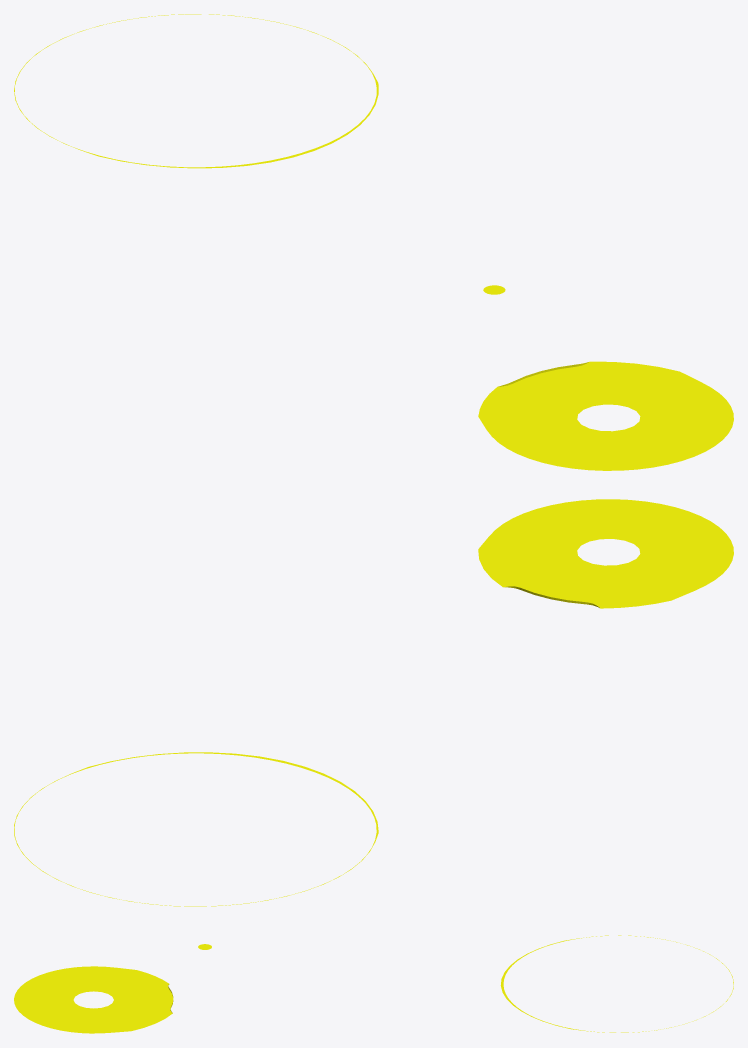
The model's file is Pfen3DE45D4A9opp_21_Pfen3DE45D4A9opp_Mesh_2.obj.
3 renders of one model, top to bottom at view 1: azimuth 30°, elevation 25°; view 2: azimuth 150°, elevation 25°; view 3: azimuth 270°, elevation 25°, orthographic. The views are drawn at different scales.
Parts seen in each view (by area): view 1: Mesh_Diffuse_6; view 2: Mesh_Diffuse_6; view 3: Mesh_Diffuse_6.
Boxes of the visible parts, x1,y1,x2,y2 form: Mesh_Diffuse_6: [14, 14, 733, 470]; Mesh_Diffuse_6: [14, 499, 733, 906]; Mesh_Diffuse_6: [14, 935, 733, 1033].
Size of the model in its own units: 0.5719 by 0.122 by 1.78.
